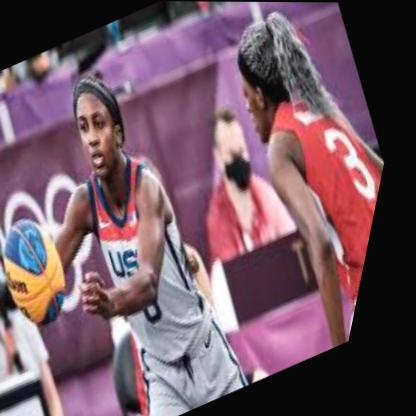basketball: (0, 208, 105, 335)
